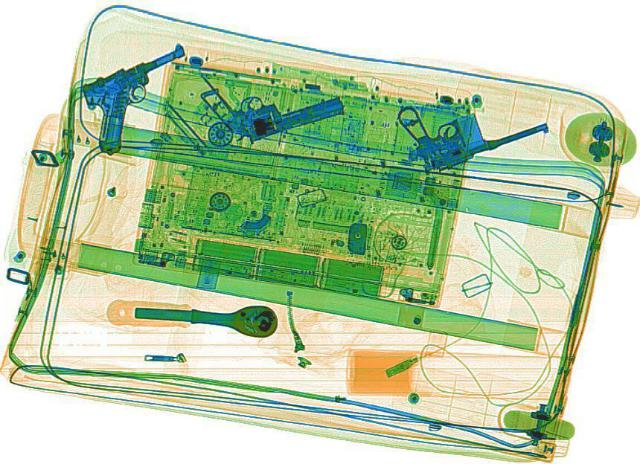Gun: (50, 42, 234, 153), (380, 71, 552, 172), (196, 56, 352, 145)
